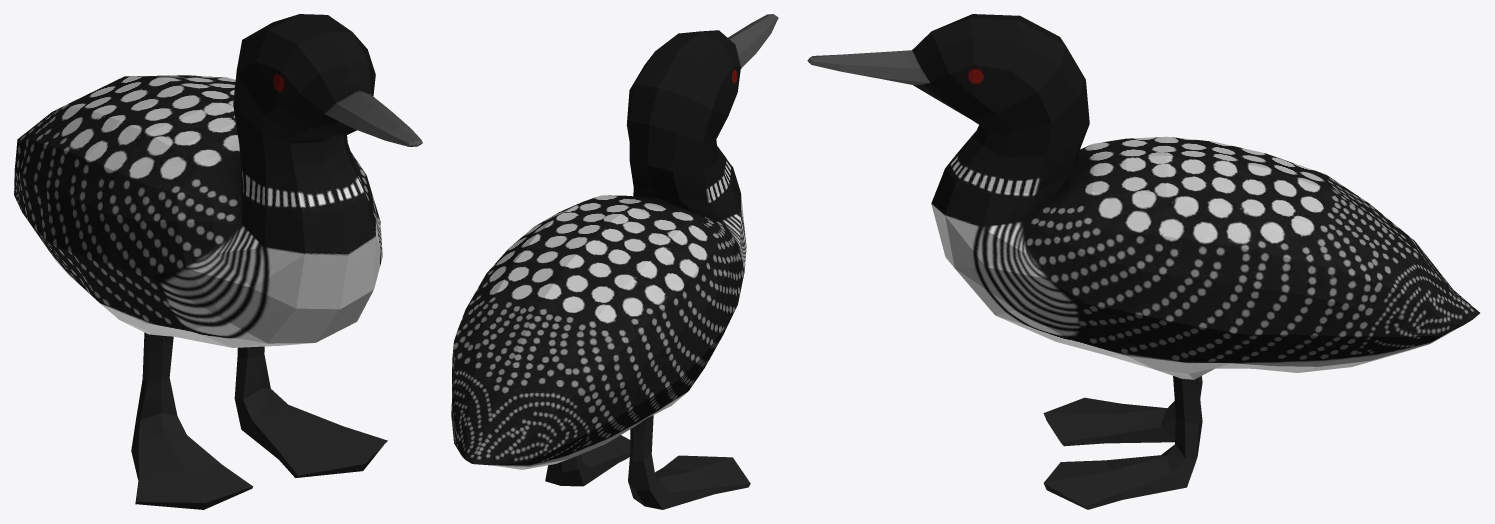
The model's file is 5ijiY1ScLbe.glb.
3 views of the same model, side by side, from view 1: azimuth 30°, elevation 25°; view 2: azimuth 150°, elevation 25°; view 3: azimuth 270°, elevation 25° (orthographic). The views are drawn at different scales.
Parts seen in each view (by area): view 1: CommonLoon_Mesh; view 2: CommonLoon_Mesh; view 3: CommonLoon_Mesh.
Boxes of the visible parts, x1=… form: CommonLoon_Mesh: x1=14, y1=14, x2=422, y2=509; CommonLoon_Mesh: x1=451, y1=14, x2=778, y2=509; CommonLoon_Mesh: x1=807, y1=14, x2=1479, y2=509.
Bounding box in the file's own units: 0.5425 × 0.9999 × 1.4.
1 material, 1 textured.
